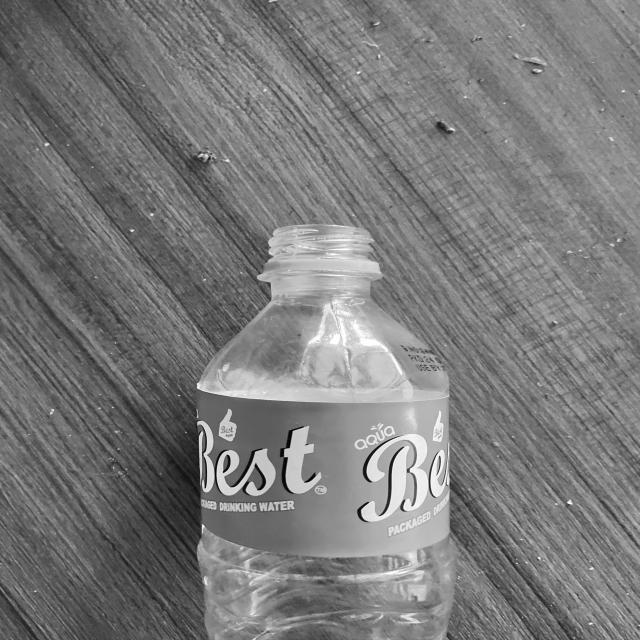open-cap: (265, 223, 380, 274)
